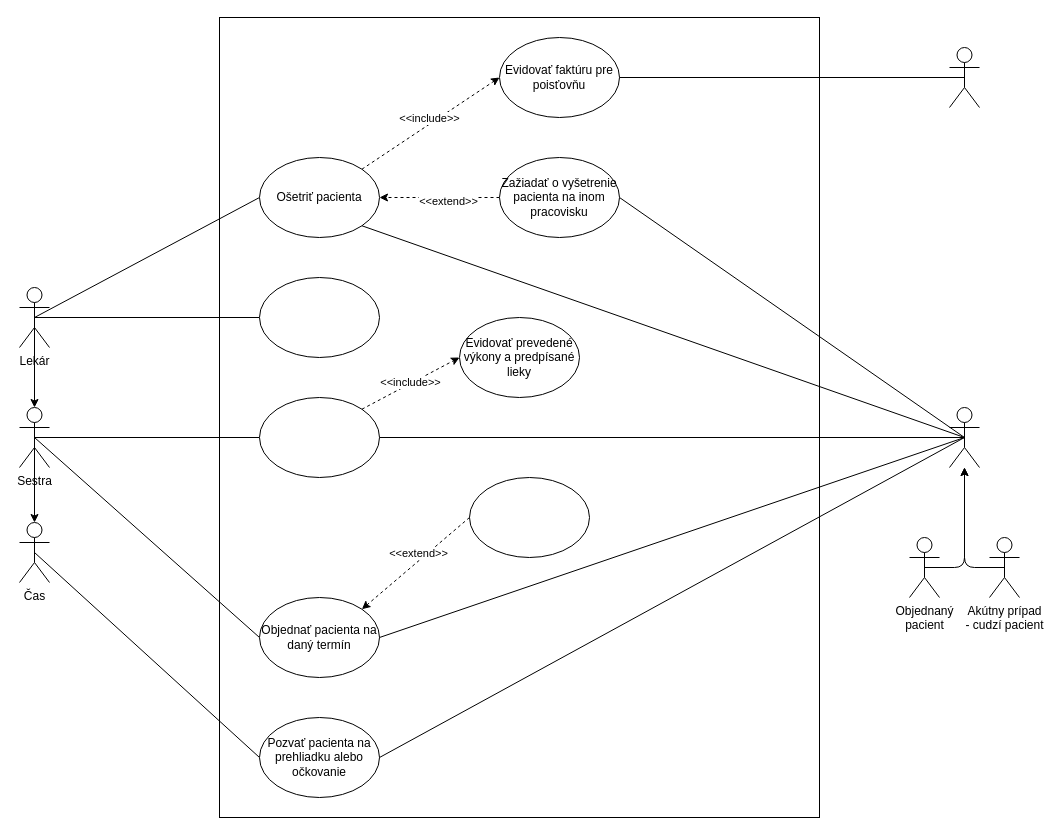
Some shapes in this 1061 by 835 pixel diagram are drawn without their labels. The shapes that lost their labels are listed below. From the top down, each one's centre as x and y in pixels, then its label:
pixel 964 77: Poisťovňa
pixel 319 317: Vytlačiť faktúru
pixel 319 437: Evidovať návštevu pacienta
pixel 964 437: Pacient
pixel 529 517: Špecifikovať plánované výkony
